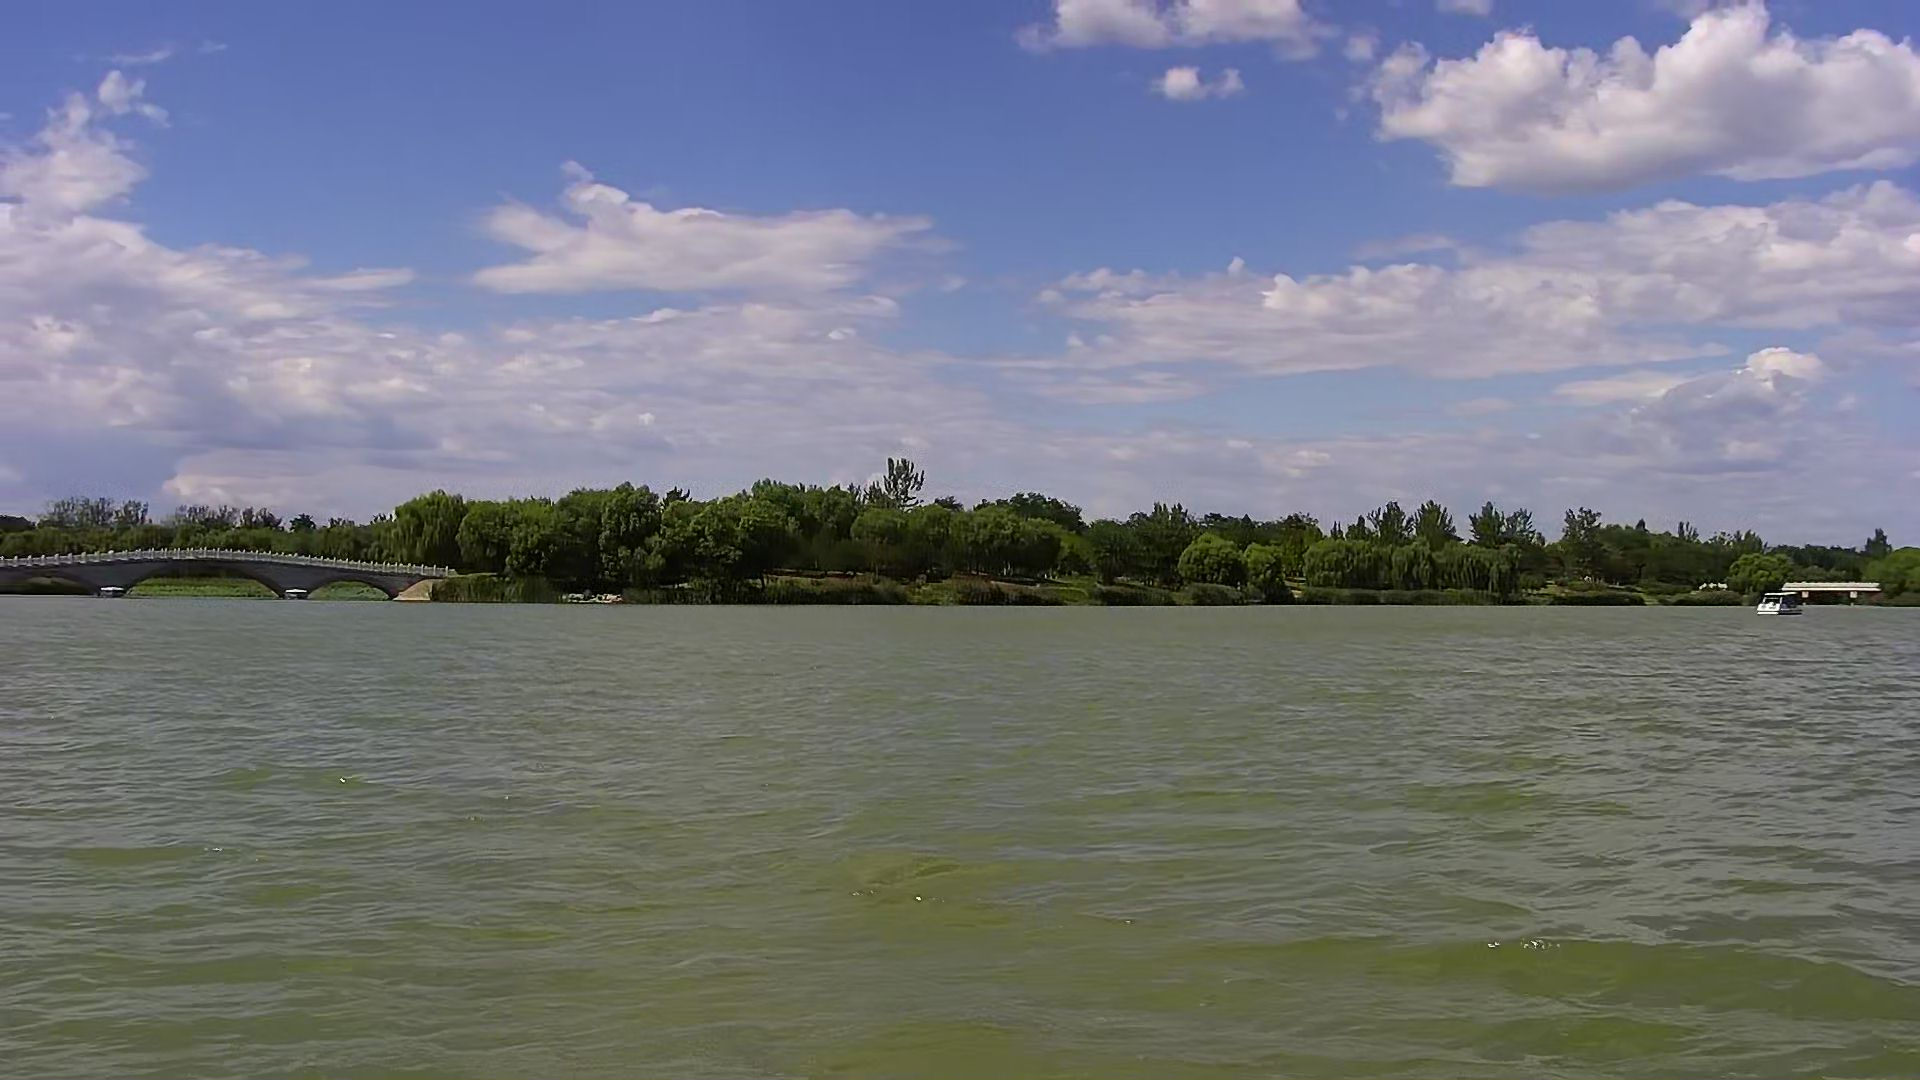boat: (1750, 584, 1809, 622)
bridge: (1, 542, 491, 601)
